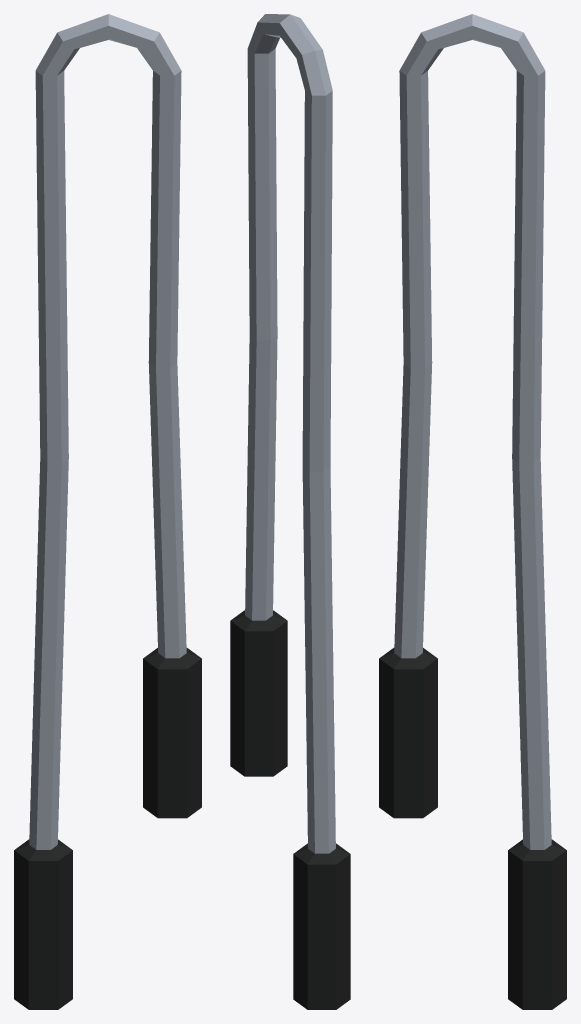
The model's file is Skipping rope.fbx.
The picture shows the model from 3 angles, left to right: view 1: azimuth 90°, elevation 25°; view 2: azimuth 210°, elevation 25°; view 3: azimuth 270°, elevation 25°; orthographic projection. The views are drawn at different scales.
Visible parts, largest first — view 1: skipping rope; view 2: skipping rope; view 3: skipping rope.
Boxes of the visible parts, x1,y1,x2,y2 form: skipping rope: (14, 14, 201, 1009); skipping rope: (230, 14, 350, 1009); skipping rope: (379, 14, 566, 1009).
Bounding box in the file's own units: 4.8 × 102 × 17.69.
